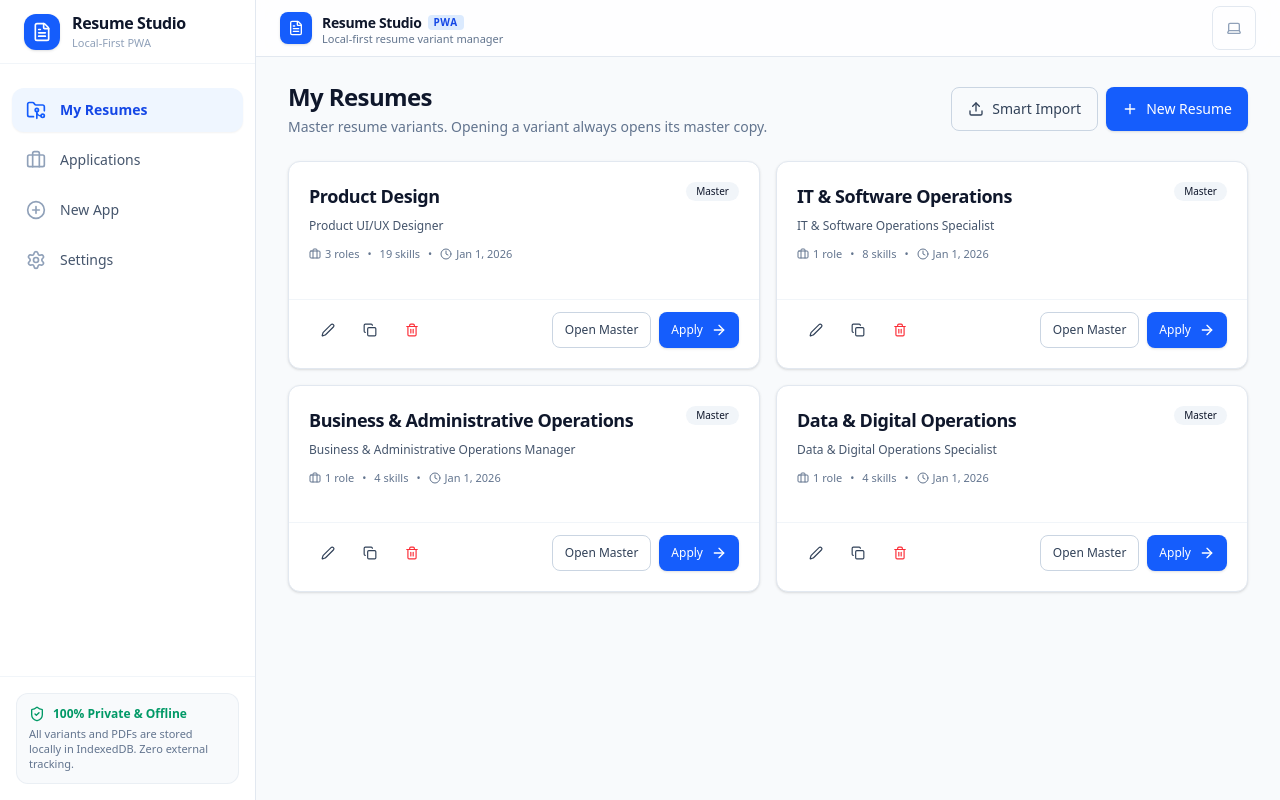
Test: Phase 3 Integration: Resume Library & Application Creation Flow › My Resumes (Master Variant Library) › deletes a master variant guarded by ConfirmDialog
Later steps or results of the test are not shown.
Expected: the heading "My Resumes" is shown, [288,80,432,113]
Click the button titled "delete master variant" below "Data & Digital Operations Specialist".
click(900, 553)  # box [881,535,919,571]
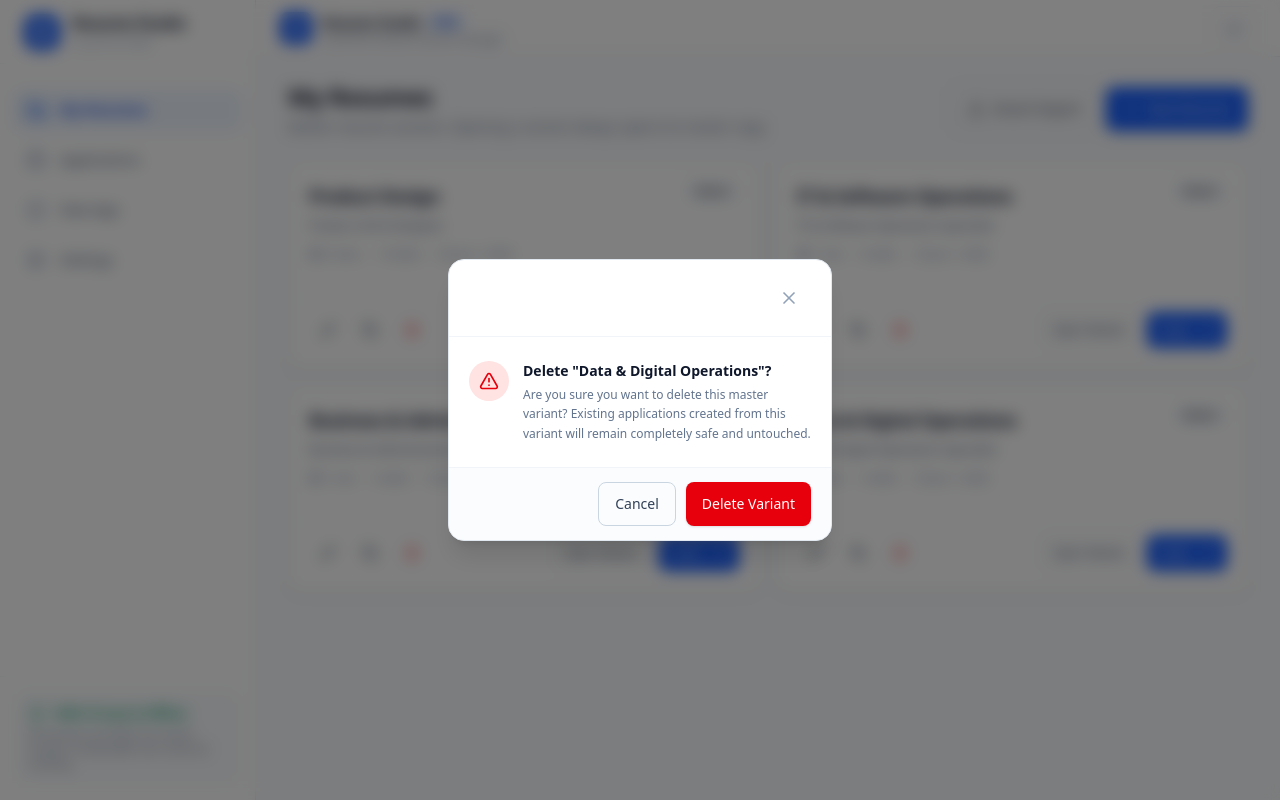
Now the heading "Delete \"Data & Digital Operations\"?" is shown, box [523,361,811,381]
